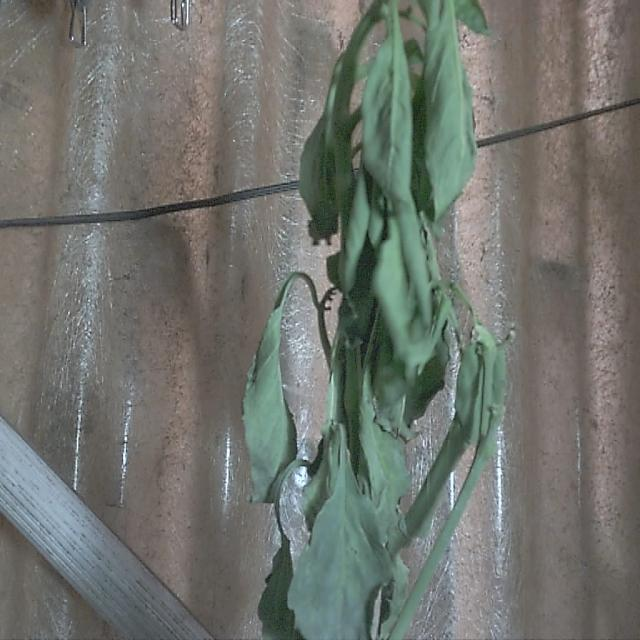Leaf: (292, 476, 387, 640), (242, 306, 294, 509), (424, 12, 474, 214), (360, 35, 412, 204), (302, 114, 348, 241)
